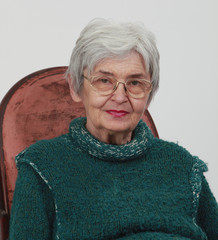young: (68, 21, 164, 147)
